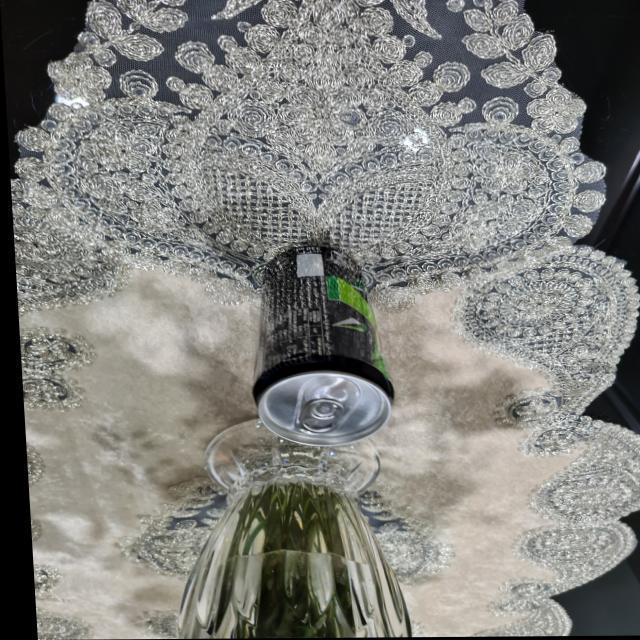trash: (240, 240, 398, 448)
